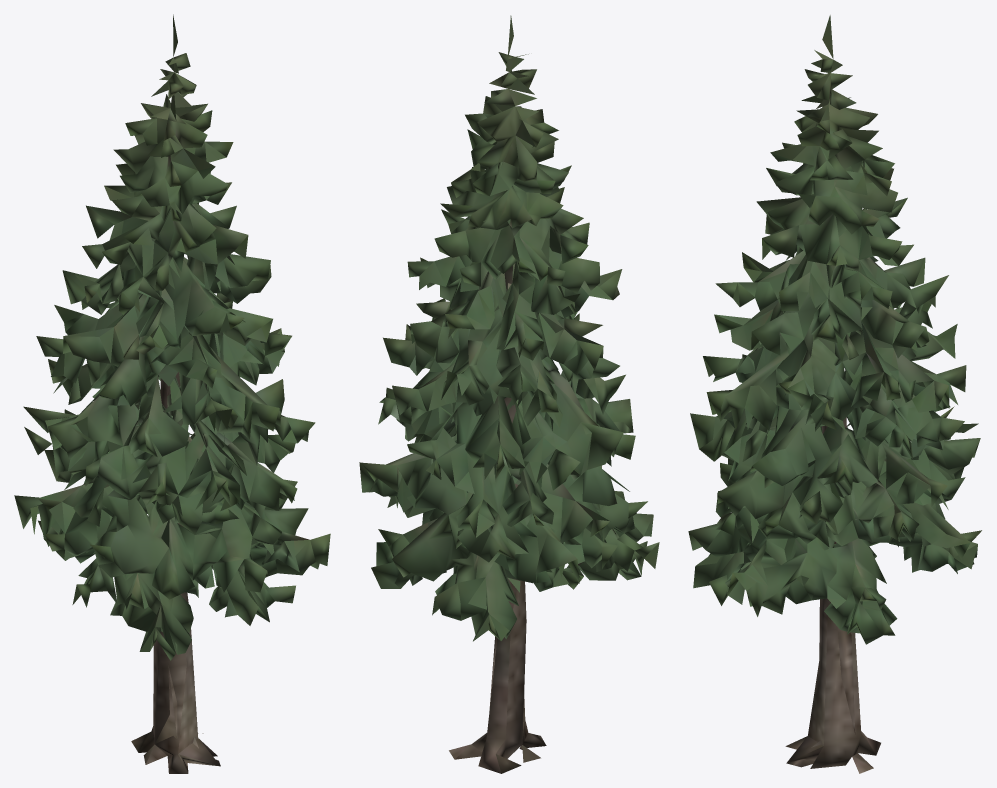
3 views of the same model, side by side, from view 1: azimuth 30°, elevation 25°; view 2: azimuth 150°, elevation 25°; view 3: azimuth 270°, elevation 25° (orthographic).
Parts seen in each view (by area): view 1: valley-pine; view 2: valley-pine; view 3: valley-pine.
Boxes of the visible parts, x1,y1,x2,y2 form: valley-pine: (14, 14, 330, 773); valley-pine: (359, 15, 659, 773); valley-pine: (688, 15, 981, 773).
Bounding box in the file's own units: 3.44 × 9.99 × 3.61.
Materials: 1 (1 with a texture image).
